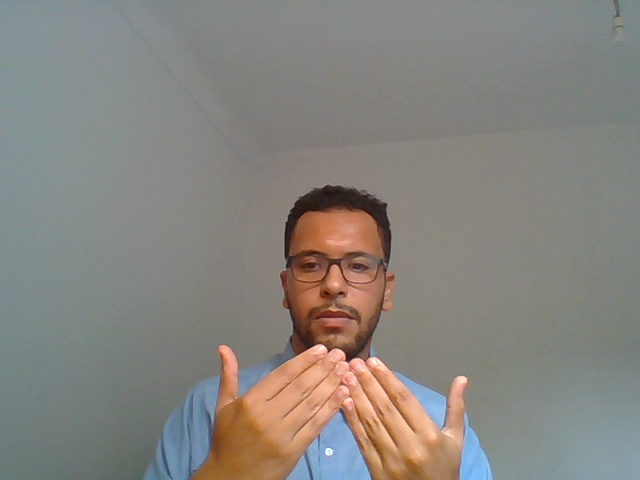thanks: (129, 328, 536, 480)
